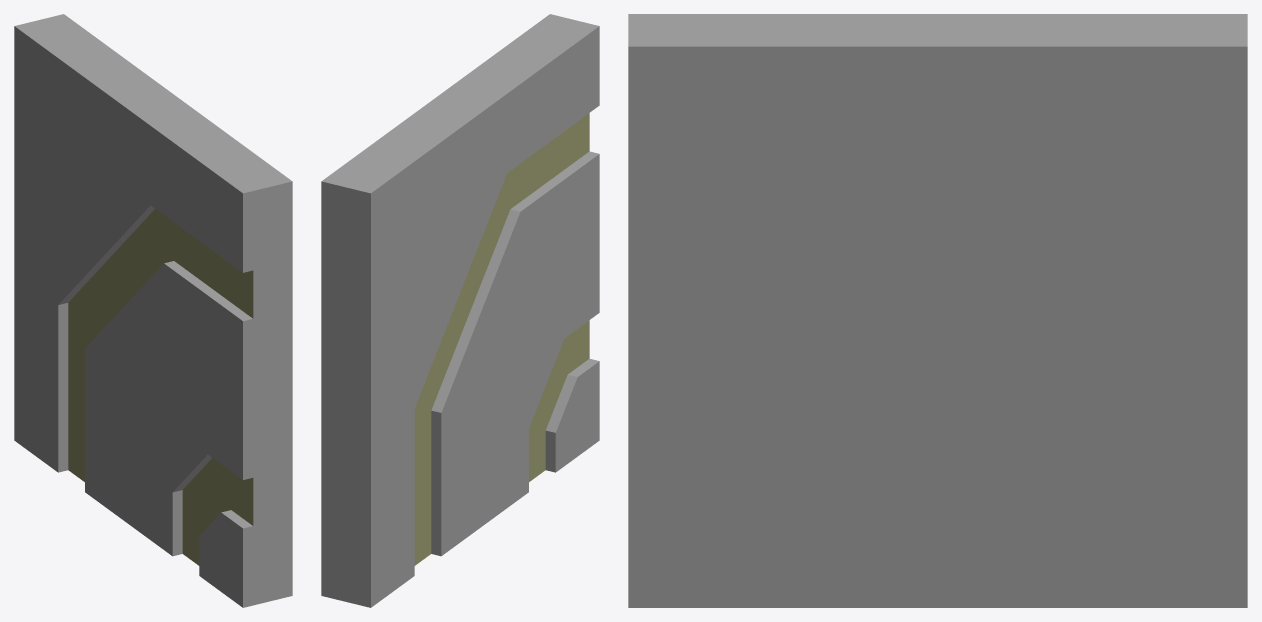
Rendered from CM_GlowingCorner_Wall8x8.fbx.
3 renders of one model, left to right at view 1: azimuth 30°, elevation 25°; view 2: azimuth 150°, elevation 25°; view 3: azimuth 270°, elevation 25°, orthographic. The views are drawn at different scales.
Visible parts, largest first — view 1: CM_GlowingCorner_Wall8x8; view 2: CM_GlowingCorner_Wall8x8; view 3: CM_GlowingCorner_Wall8x8.
Part boxes in pixels (<box>): CM_GlowingCorner_Wall8x8: <box>14,14,292,607</box>; CM_GlowingCorner_Wall8x8: <box>321,14,599,607</box>; CM_GlowingCorner_Wall8x8: <box>628,14,1247,607</box>.
Bounding box in the file's own units: 100 × 800 × 800.
